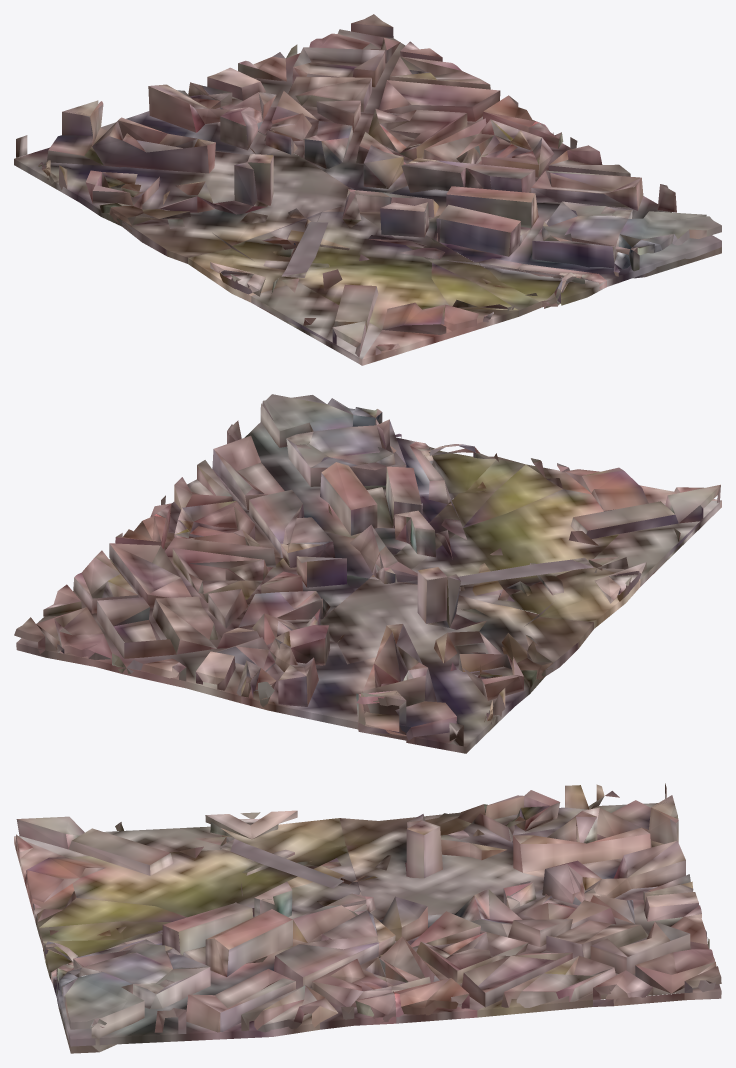
3 renders of one model, top to bottom at view 1: azimuth 30°, elevation 25°; view 2: azimuth 150°, elevation 25°; view 3: azimuth 270°, elevation 25°, orthographic. The views are drawn at different scales.
Parts seen in each view (by area): view 1: Mesh_0; view 2: Mesh_0; view 3: Mesh_0.
Boxes of the visible parts, x1,y1,x2,y2 form: Mesh_0: (14, 14, 721, 365); Mesh_0: (14, 394, 721, 753); Mesh_0: (14, 783, 721, 1053).
Bounding box in the file's own units: 533 × 69.56 × 659.
Materials: 2 (2 with a texture image).
